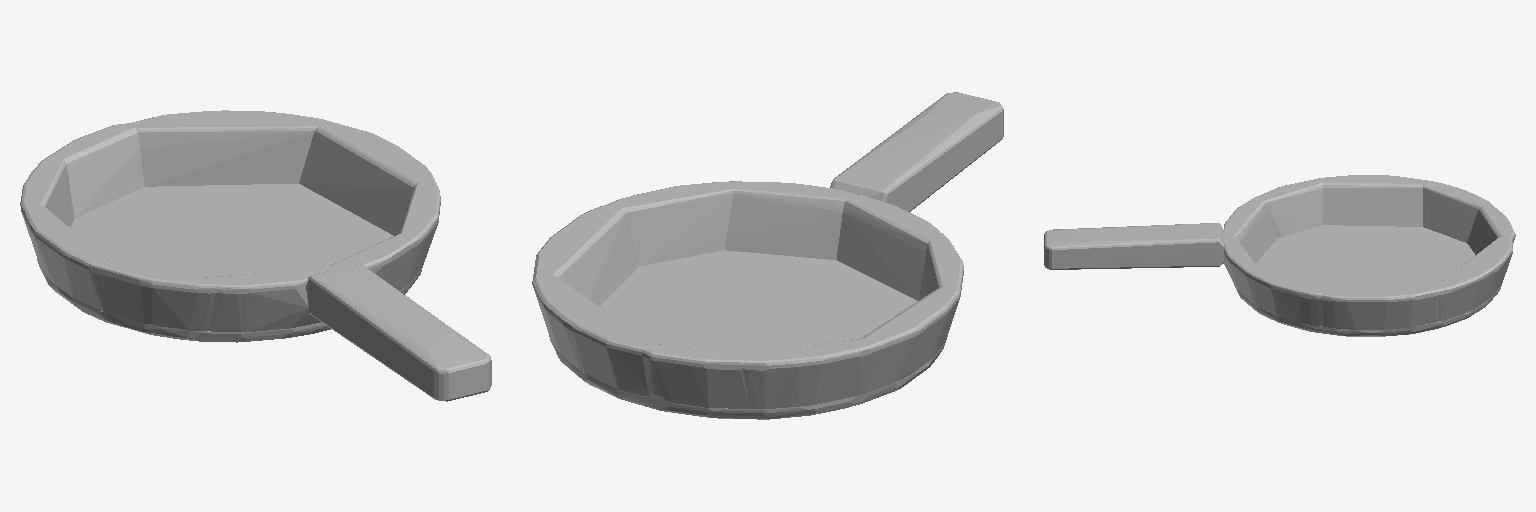
URDF robot description (root):
<robot name="root">
  <link name="link_coacd_convex_piece_0">
    <inertial>
      <origin xyz="0 0 0" rpy="0 0 0"/>
      <inertia ixx="2.89E-03" ixy="5.63E-05" ixz="-3.47E-06" iyy="4.51E-05" iyz="1.75E-04" izz="2.89E-03"/>
    </inertial>
    <visual>
      <origin xyz="0 0 0" rpy="0 0 0"/>
      <geometry>
        <mesh filename="coacd_convex_piece_0.obj" scale="1.0000E+00 1.0000E+00 1.0000E+00"/>
      </geometry>
      <material name="">
        <color rgba="7.50E-01 7.50E-01 7.50E-01 1"/>
      </material>
    </visual>
    <collision>
      <origin xyz="0 0 0" rpy="0 0 0"/>
      <geometry>
        <mesh filename="coacd_convex_piece_0.obj" scale="1.0000E+00 1.0000E+00 1.0000E+00"/>
      </geometry>
    </collision>
  </link>
  <link name="link_coacd_convex_piece_1">
    <inertial>
      <origin xyz="0 0 0" rpy="0 0 0"/>
      <inertia ixx="3.64E-03" ixy="8.00E-06" ixz="-1.49E-06" iyy="1.93E-03" iyz="5.93E-04" izz="5.21E-03"/>
    </inertial>
    <visual>
      <origin xyz="0 0 0" rpy="0 0 0"/>
      <geometry>
        <mesh filename="coacd_convex_piece_1.obj" scale="1.0000E+00 1.0000E+00 1.0000E+00"/>
      </geometry>
      <material name="">
        <color rgba="7.50E-01 7.50E-01 7.50E-01 1"/>
      </material>
    </visual>
    <collision>
      <origin xyz="0 0 0" rpy="0 0 0"/>
      <geometry>
        <mesh filename="coacd_convex_piece_1.obj" scale="1.0000E+00 1.0000E+00 1.0000E+00"/>
      </geometry>
    </collision>
  </link>
  <joint name="link_coacd_convex_piece_1_joint" type="fixed">
    <origin xyz="0 0 0" rpy="0 0 0"/>
    <parent link="link_coacd_convex_piece_0"/>
    <child link="link_coacd_convex_piece_1"/>
  </joint>
  <link name="link_coacd_convex_piece_2">
    <inertial>
      <origin xyz="0 0 0" rpy="0 0 0"/>
      <inertia ixx="-9.13E-05" ixy="-6.09E-05" ixz="5.63E-06" iyy="1.13E-04" iyz="-1.59E-05" izz="1.47E-05"/>
    </inertial>
    <visual>
      <origin xyz="0 0 0" rpy="0 0 0"/>
      <geometry>
        <mesh filename="coacd_convex_piece_2.obj" scale="1.0000E+00 1.0000E+00 1.0000E+00"/>
      </geometry>
      <material name="">
        <color rgba="7.50E-01 7.50E-01 7.50E-01 1"/>
      </material>
    </visual>
    <collision>
      <origin xyz="0 0 0" rpy="0 0 0"/>
      <geometry>
        <mesh filename="coacd_convex_piece_2.obj" scale="1.0000E+00 1.0000E+00 1.0000E+00"/>
      </geometry>
    </collision>
  </link>
  <joint name="link_coacd_convex_piece_2_joint" type="fixed">
    <origin xyz="0 0 0" rpy="0 0 0"/>
    <parent link="link_coacd_convex_piece_1"/>
    <child link="link_coacd_convex_piece_2"/>
  </joint>
  <link name="link_coacd_convex_piece_3">
    <inertial>
      <origin xyz="0 0 0" rpy="0 0 0"/>
      <inertia ixx="3.08E-03" ixy="-9.70E-04" ixz="-2.11E-05" iyy="3.96E-04" iyz="-1.02E-04" izz="3.46E-03"/>
    </inertial>
    <visual>
      <origin xyz="0 0 0" rpy="0 0 0"/>
      <geometry>
        <mesh filename="coacd_convex_piece_3.obj" scale="1.0000E+00 1.0000E+00 1.0000E+00"/>
      </geometry>
      <material name="">
        <color rgba="7.50E-01 7.50E-01 7.50E-01 1"/>
      </material>
    </visual>
    <collision>
      <origin xyz="0 0 0" rpy="0 0 0"/>
      <geometry>
        <mesh filename="coacd_convex_piece_3.obj" scale="1.0000E+00 1.0000E+00 1.0000E+00"/>
      </geometry>
    </collision>
  </link>
  <joint name="link_coacd_convex_piece_3_joint" type="fixed">
    <origin xyz="0 0 0" rpy="0 0 0"/>
    <parent link="link_coacd_convex_piece_2"/>
    <child link="link_coacd_convex_piece_3"/>
  </joint>
  <link name="link_coacd_convex_piece_4">
    <inertial>
      <origin xyz="0 0 0" rpy="0 0 0"/>
      <inertia ixx="6.61E-04" ixy="-1.00E-03" ixz="-3.10E-05" iyy="1.24E-03" iyz="-5.90E-05" izz="1.89E-03"/>
    </inertial>
    <visual>
      <origin xyz="0 0 0" rpy="0 0 0"/>
      <geometry>
        <mesh filename="coacd_convex_piece_4.obj" scale="1.0000E+00 1.0000E+00 1.0000E+00"/>
      </geometry>
      <material name="">
        <color rgba="7.50E-01 7.50E-01 7.50E-01 1"/>
      </material>
    </visual>
    <collision>
      <origin xyz="0 0 0" rpy="0 0 0"/>
      <geometry>
        <mesh filename="coacd_convex_piece_4.obj" scale="1.0000E+00 1.0000E+00 1.0000E+00"/>
      </geometry>
    </collision>
  </link>
  <joint name="link_coacd_convex_piece_4_joint" type="fixed">
    <origin xyz="0 0 0" rpy="0 0 0"/>
    <parent link="link_coacd_convex_piece_3"/>
    <child link="link_coacd_convex_piece_4"/>
  </joint>
  <link name="link_coacd_convex_piece_5">
    <inertial>
      <origin xyz="0 0 0" rpy="0 0 0"/>
      <inertia ixx="3.66E-04" ixy="6.94E-04" ixz="2.34E-05" iyy="9.56E-04" iyz="-4.22E-05" izz="1.31E-03"/>
    </inertial>
    <visual>
      <origin xyz="0 0 0" rpy="0 0 0"/>
      <geometry>
        <mesh filename="coacd_convex_piece_5.obj" scale="1.0000E+00 1.0000E+00 1.0000E+00"/>
      </geometry>
      <material name="">
        <color rgba="7.50E-01 7.50E-01 7.50E-01 1"/>
      </material>
    </visual>
    <collision>
      <origin xyz="0 0 0" rpy="0 0 0"/>
      <geometry>
        <mesh filename="coacd_convex_piece_5.obj" scale="1.0000E+00 1.0000E+00 1.0000E+00"/>
      </geometry>
    </collision>
  </link>
  <joint name="link_coacd_convex_piece_5_joint" type="fixed">
    <origin xyz="0 0 0" rpy="0 0 0"/>
    <parent link="link_coacd_convex_piece_4"/>
    <child link="link_coacd_convex_piece_5"/>
  </joint>
  <link name="link_coacd_convex_piece_6">
    <inertial>
      <origin xyz="0 0 0" rpy="0 0 0"/>
      <inertia ixx="-7.14E-05" ixy="5.27E-05" ixz="-4.36E-06" iyy="7.85E-05" iyz="-1.32E-05" izz="1.04E-06"/>
    </inertial>
    <visual>
      <origin xyz="0 0 0" rpy="0 0 0"/>
      <geometry>
        <mesh filename="coacd_convex_piece_6.obj" scale="1.0000E+00 1.0000E+00 1.0000E+00"/>
      </geometry>
      <material name="">
        <color rgba="7.50E-01 7.50E-01 7.50E-01 1"/>
      </material>
    </visual>
    <collision>
      <origin xyz="0 0 0" rpy="0 0 0"/>
      <geometry>
        <mesh filename="coacd_convex_piece_6.obj" scale="1.0000E+00 1.0000E+00 1.0000E+00"/>
      </geometry>
    </collision>
  </link>
  <joint name="link_coacd_convex_piece_6_joint" type="fixed">
    <origin xyz="0 0 0" rpy="0 0 0"/>
    <parent link="link_coacd_convex_piece_5"/>
    <child link="link_coacd_convex_piece_6"/>
  </joint>
  <link name="link_coacd_convex_piece_7">
    <inertial>
      <origin xyz="0 0 0" rpy="0 0 0"/>
      <inertia ixx="-9.98E-05" ixy="4.82E-05" ixz="1.57E-05" iyy="4.24E-04" iyz="-1.71E-05" izz="3.18E-04"/>
    </inertial>
    <visual>
      <origin xyz="0 0 0" rpy="0 0 0"/>
      <geometry>
        <mesh filename="coacd_convex_piece_7.obj" scale="1.0000E+00 1.0000E+00 1.0000E+00"/>
      </geometry>
      <material name="">
        <color rgba="7.50E-01 7.50E-01 7.50E-01 1"/>
      </material>
    </visual>
    <collision>
      <origin xyz="0 0 0" rpy="0 0 0"/>
      <geometry>
        <mesh filename="coacd_convex_piece_7.obj" scale="1.0000E+00 1.0000E+00 1.0000E+00"/>
      </geometry>
    </collision>
  </link>
  <joint name="link_coacd_convex_piece_7_joint" type="fixed">
    <origin xyz="0 0 0" rpy="0 0 0"/>
    <parent link="link_coacd_convex_piece_6"/>
    <child link="link_coacd_convex_piece_7"/>
  </joint>
  <link name="link_coacd_convex_piece_8">
    <inertial>
      <origin xyz="0 0 0" rpy="0 0 0"/>
      <inertia ixx="1.54E-03" ixy="2.69E-04" ixz="3.58E-06" iyy="6.08E-05" iyz="-4.08E-05" izz="1.60E-03"/>
    </inertial>
    <visual>
      <origin xyz="0 0 0" rpy="0 0 0"/>
      <geometry>
        <mesh filename="coacd_convex_piece_8.obj" scale="1.0000E+00 1.0000E+00 1.0000E+00"/>
      </geometry>
      <material name="">
        <color rgba="7.50E-01 7.50E-01 7.50E-01 1"/>
      </material>
    </visual>
    <collision>
      <origin xyz="0 0 0" rpy="0 0 0"/>
      <geometry>
        <mesh filename="coacd_convex_piece_8.obj" scale="1.0000E+00 1.0000E+00 1.0000E+00"/>
      </geometry>
    </collision>
  </link>
  <joint name="link_coacd_convex_piece_8_joint" type="fixed">
    <origin xyz="0 0 0" rpy="0 0 0"/>
    <parent link="link_coacd_convex_piece_7"/>
    <child link="link_coacd_convex_piece_8"/>
  </joint>
  <link name="link_coacd_convex_piece_9">
    <inertial>
      <origin xyz="0 0 0" rpy="0 0 0"/>
      <inertia ixx="1.07E-03" ixy="6.57E-04" ixz="1.60E-05" iyy="3.86E-04" iyz="-4.56E-05" izz="1.45E-03"/>
    </inertial>
    <visual>
      <origin xyz="0 0 0" rpy="0 0 0"/>
      <geometry>
        <mesh filename="coacd_convex_piece_9.obj" scale="1.0000E+00 1.0000E+00 1.0000E+00"/>
      </geometry>
      <material name="">
        <color rgba="7.50E-01 7.50E-01 7.50E-01 1"/>
      </material>
    </visual>
    <collision>
      <origin xyz="0 0 0" rpy="0 0 0"/>
      <geometry>
        <mesh filename="coacd_convex_piece_9.obj" scale="1.0000E+00 1.0000E+00 1.0000E+00"/>
      </geometry>
    </collision>
  </link>
  <joint name="link_coacd_convex_piece_9_joint" type="fixed">
    <origin xyz="0 0 0" rpy="0 0 0"/>
    <parent link="link_coacd_convex_piece_8"/>
    <child link="link_coacd_convex_piece_9"/>
  </joint>
  <link name="link_coacd_convex_piece_10">
    <inertial>
      <origin xyz="0 0 0" rpy="0 0 0"/>
      <inertia ixx="-1.19E-04" ixy="-4.35E-05" ixz="-1.86E-05" iyy="4.78E-04" iyz="-1.99E-05" izz="3.52E-04"/>
    </inertial>
    <visual>
      <origin xyz="0 0 0" rpy="0 0 0"/>
      <geometry>
        <mesh filename="coacd_convex_piece_10.obj" scale="1.0000E+00 1.0000E+00 1.0000E+00"/>
      </geometry>
      <material name="">
        <color rgba="7.50E-01 7.50E-01 7.50E-01 1"/>
      </material>
    </visual>
    <collision>
      <origin xyz="0 0 0" rpy="0 0 0"/>
      <geometry>
        <mesh filename="coacd_convex_piece_10.obj" scale="1.0000E+00 1.0000E+00 1.0000E+00"/>
      </geometry>
    </collision>
  </link>
  <joint name="link_coacd_convex_piece_10_joint" type="fixed">
    <origin xyz="0 0 0" rpy="0 0 0"/>
    <parent link="link_coacd_convex_piece_9"/>
    <child link="link_coacd_convex_piece_10"/>
  </joint>
</robot>

--- Facts derived from the render (not from the file) ---
The picture shows the robot from 3 angles, left to right: view 1: azimuth 30°, elevation 25°; view 2: azimuth 150°, elevation 25°; view 3: azimuth 270°, elevation 25°; orthographic projection.
Robot: root — 11 links, 10 joints (10 fixed); root link link_coacd_convex_piece_0; default pose: every joint at zero.
Links seen in each view (by area): view 1: link_coacd_convex_piece_1, link_coacd_convex_piece_0, link_coacd_convex_piece_3, link_coacd_convex_piece_4, link_coacd_convex_piece_7, link_coacd_convex_piece_2, link_coacd_convex_piece_8, link_coacd_convex_piece_5, link_coacd_convex_piece_9, link_coacd_convex_piece_10, link_coacd_convex_piece_6; view 2: link_coacd_convex_piece_1, link_coacd_convex_piece_0, link_coacd_convex_piece_6, link_coacd_convex_piece_3, link_coacd_convex_piece_9, link_coacd_convex_piece_10, link_coacd_convex_piece_2, link_coacd_convex_piece_4, link_coacd_convex_piece_8, link_coacd_convex_piece_5, link_coacd_convex_piece_7; view 3: link_coacd_convex_piece_1, link_coacd_convex_piece_0, link_coacd_convex_piece_5, link_coacd_convex_piece_4, link_coacd_convex_piece_3, link_coacd_convex_piece_10, link_coacd_convex_piece_9, link_coacd_convex_piece_7, link_coacd_convex_piece_2, link_coacd_convex_piece_8, link_coacd_convex_piece_6.
Boxes of the visible links, box(x1,y1,x2,y2) form: link_coacd_convex_piece_1: box(37, 183, 422, 342); link_coacd_convex_piece_0: box(306, 264, 491, 401); link_coacd_convex_piece_3: box(130, 110, 333, 186); link_coacd_convex_piece_4: box(299, 123, 434, 235); link_coacd_convex_piece_7: box(89, 260, 216, 330); link_coacd_convex_piece_2: box(205, 268, 330, 331); link_coacd_convex_piece_8: box(55, 123, 144, 217); link_coacd_convex_piece_5: box(24, 206, 108, 311); link_coacd_convex_piece_9: box(20, 153, 74, 249); link_coacd_convex_piece_10: box(401, 180, 440, 286); link_coacd_convex_piece_6: box(327, 233, 412, 290); link_coacd_convex_piece_1: box(548, 250, 945, 419); link_coacd_convex_piece_0: box(830, 92, 1003, 211); link_coacd_convex_piece_6: box(725, 182, 853, 259); link_coacd_convex_piece_3: box(532, 271, 651, 396); link_coacd_convex_piece_9: box(742, 339, 880, 408); link_coacd_convex_piece_10: box(607, 181, 743, 265); link_coacd_convex_piece_2: box(836, 194, 939, 300); link_coacd_convex_piece_4: box(534, 205, 638, 306); link_coacd_convex_piece_8: box(642, 344, 751, 408); link_coacd_convex_piece_5: box(861, 287, 959, 392); link_coacd_convex_piece_7: box(919, 233, 963, 339); link_coacd_convex_piece_1: box(1232, 225, 1501, 336); link_coacd_convex_piece_0: box(1044, 223, 1223, 269); link_coacd_convex_piece_5: box(1323, 175, 1422, 226); link_coacd_convex_piece_4: box(1323, 284, 1438, 329); link_coacd_convex_piece_3: box(1439, 236, 1512, 320); link_coacd_convex_piece_10: box(1242, 267, 1322, 326); link_coacd_convex_piece_9: box(1423, 180, 1493, 242); link_coacd_convex_piece_7: box(1248, 178, 1322, 237); link_coacd_convex_piece_2: box(1224, 202, 1276, 263); link_coacd_convex_piece_8: box(1467, 207, 1515, 254); link_coacd_convex_piece_6: box(1224, 236, 1257, 302).
Bounding box of the posed robot: 1.21 × 1.95 × 0.2326 m (x, y, z).
Meshes: 11 distinct files referenced, 11 mesh visuals loaded (11 OBJ).
